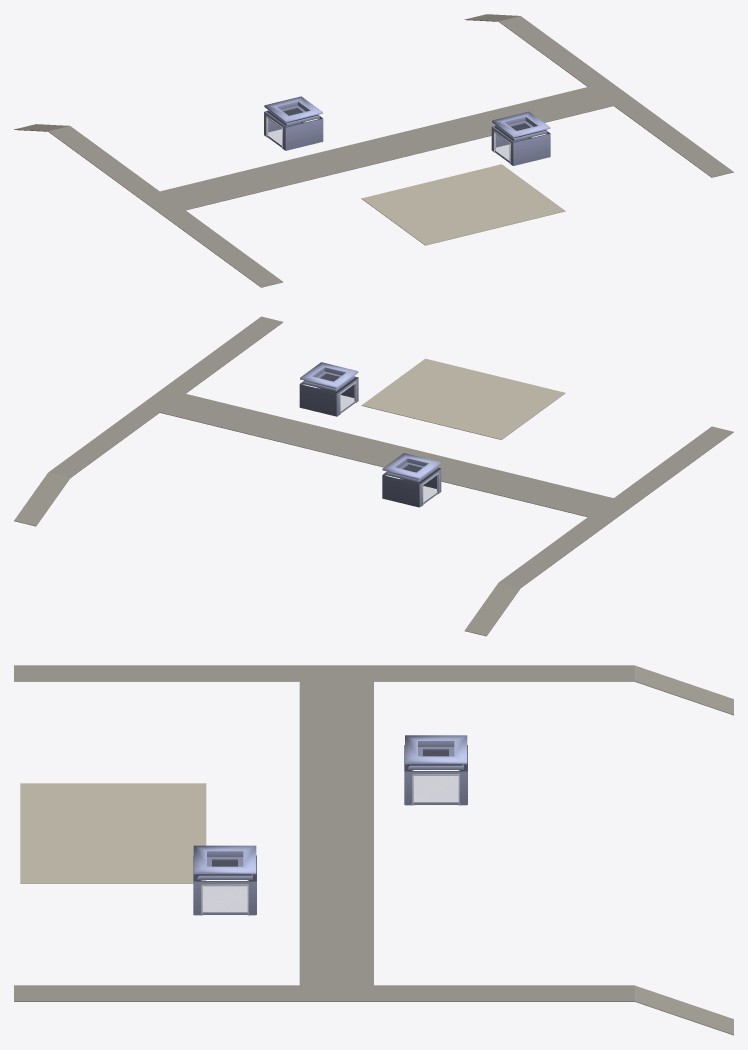
File: town-1-2.glb
3 views of the same model, one above another, from view 1: azimuth 30°, elevation 25°; view 2: azimuth 150°, elevation 25°; view 3: azimuth 270°, elevation 25° (orthographic). The views are drawn at different scales.
Parts seen in each view (by area): view 1: town-1-2; view 2: town-1-2; view 3: town-1-2.
Part boxes in pixels (x1=…): town-1-2: x1=14, y1=14, x2=733, y2=287; town-1-2: x1=14, y1=316, x2=733, y2=636; town-1-2: x1=14, y1=665, x2=733, y2=1035.
Size of the model in its own units: 128 by 13.7 by 116.
Materials: 20 (16 with a texture image).
